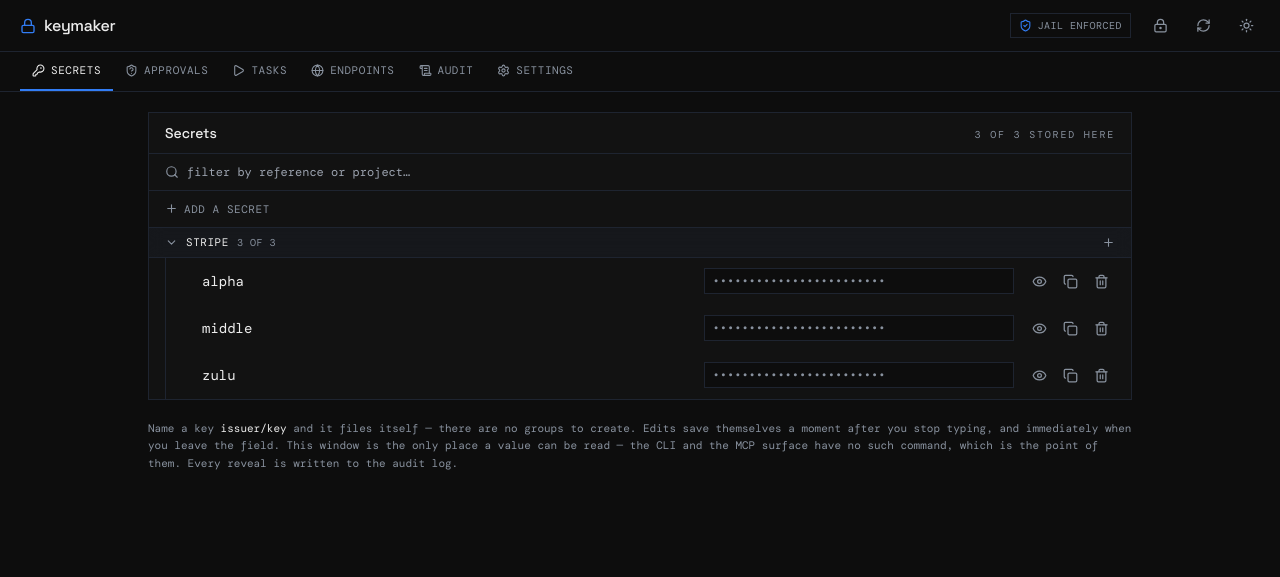
Test: App entry flow › global save immediately shows a destination row and keeps the top form ready
Expected: the text "middle" is shown, [202,318,252,338]
Click the button "add a secret" at {"x": 217, "y": 209}, box [165,200,270,217]
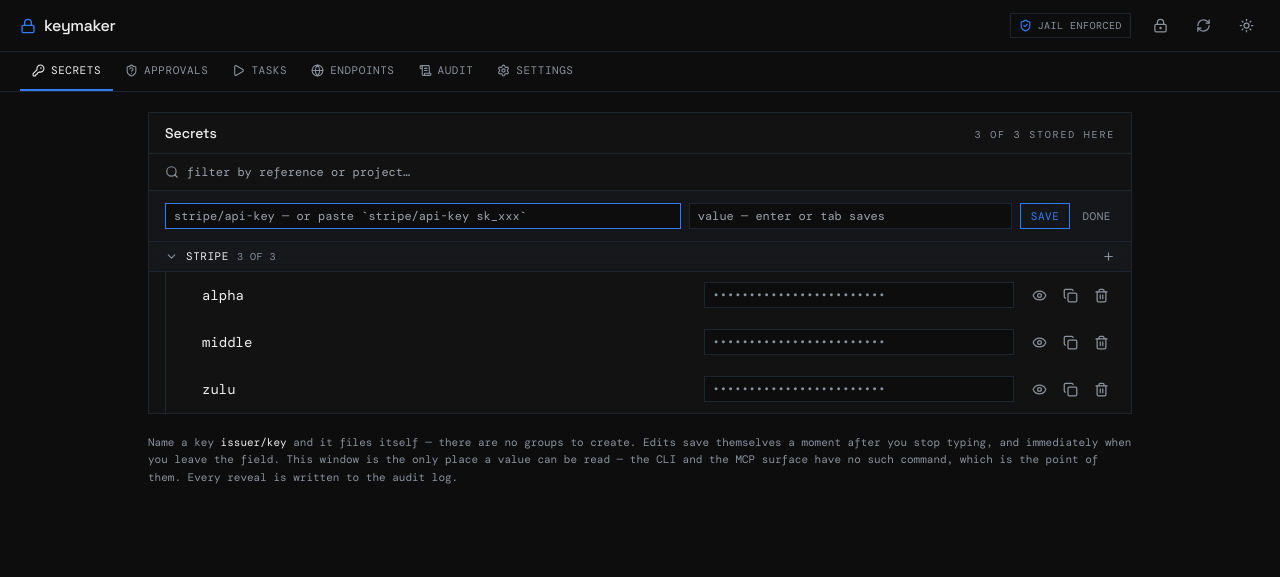
Type "mailkite/test" into the field named "Reference" at {"x": 423, "y": 216}, box [165,203,681,229]
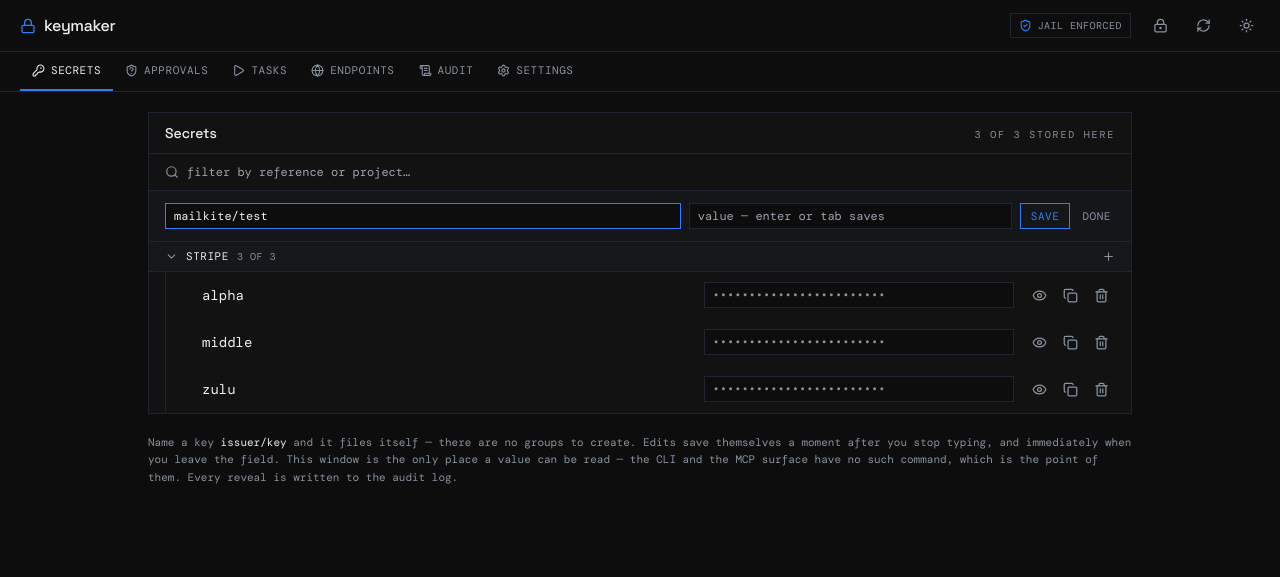
Type "test-value" into the password field labelled "value" at {"x": 850, "y": 216}, box [689,203,1012,229]
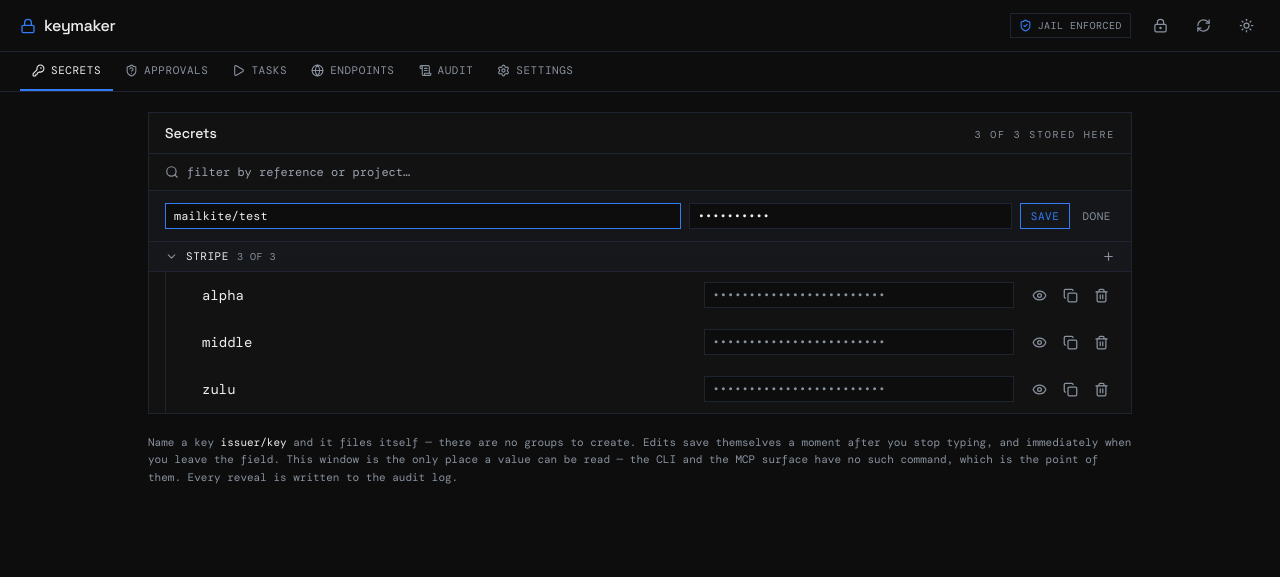
Press Enter in the password field named "value", box [689,203,1012,229]
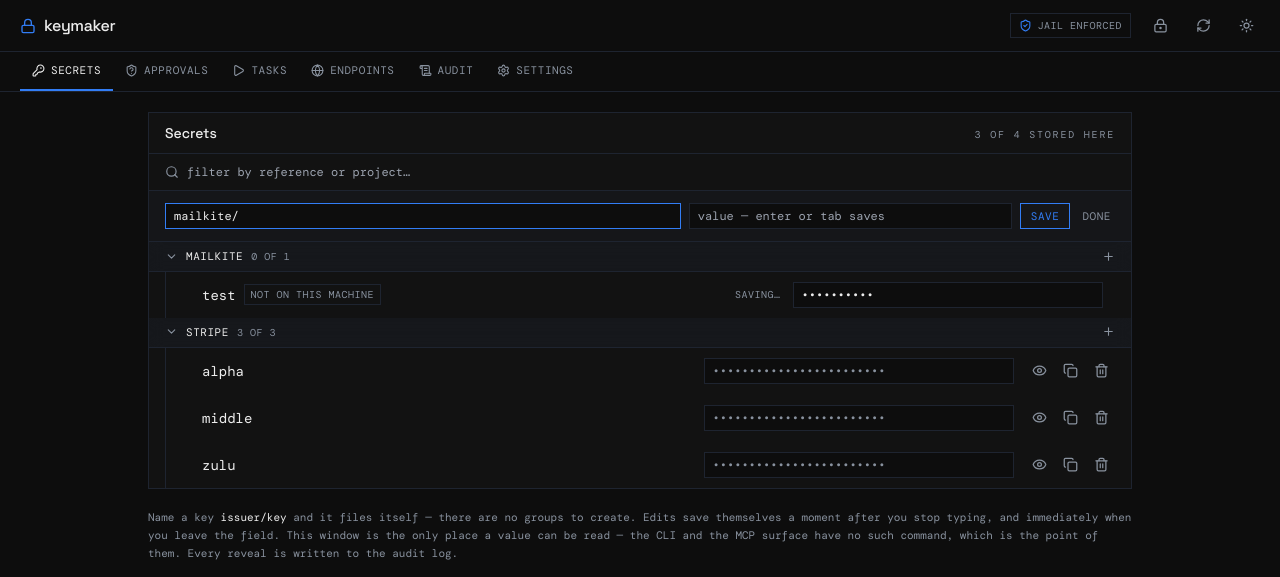
Expected: the button with aria-label "Collapse mailkite" is shown, [149,242,1086,270]
Expected: the text "test" is shown, [202,284,236,304]
Expected: the text "saving…" is shown, [735,288,781,301]
